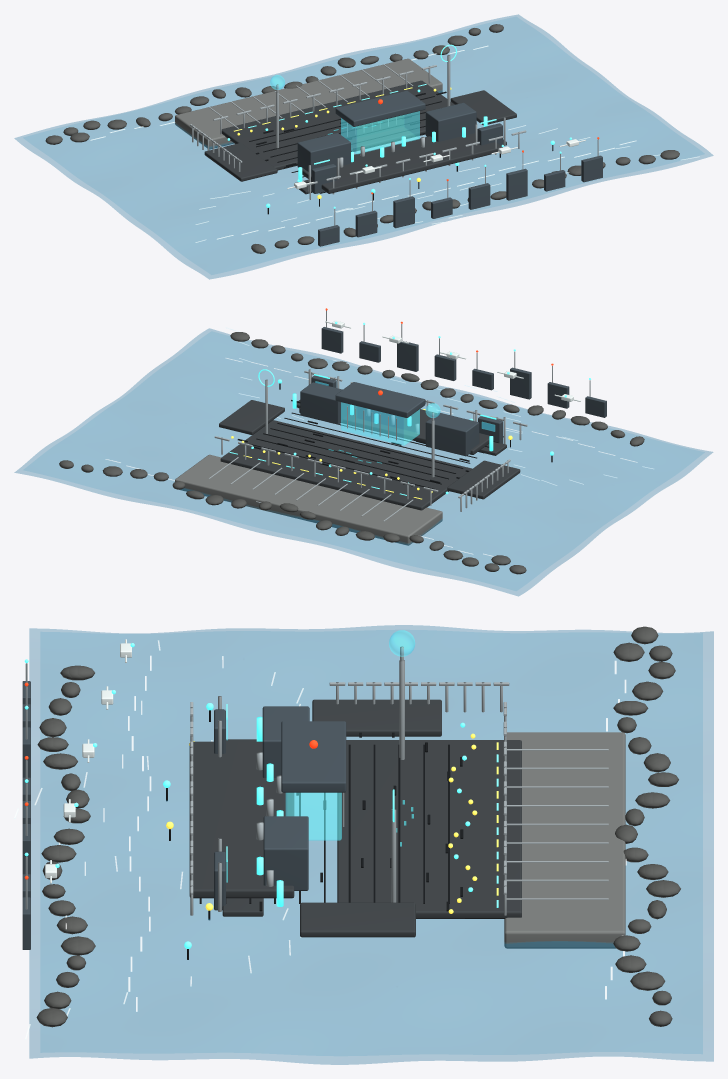
File: ocean-observatory-cinematic-blender.glb
3 views of the same model, one above another, from view 1: azimuth 30°, elevation 25°; view 2: azimuth 150°, elevation 25°; view 3: azimuth 270°, elevation 25° (orthographic). The views are drawn at different scales.
Visible parts, largest first — view 1: A3D ocean procedural base tessellated swell surface, A3D ocean secondary wind chop reference layer, batched salt dark composite deck panels, batched storm blue observatory cladding, foreground angular concrete caisson, batched dark basalt breakwater, batched brushed marine steel rails, batched thick cyan pressure glass, batched black rubber cable bundles, batched cyan instrument emissive, batched wind torn ocean foam cards, batched white patrol drone shells (+1 smaller); view 2: A3D ocean procedural base tessellated swell surface, A3D ocean secondary wind chop reference layer, batched salt dark composite deck panels, batched storm blue observatory cladding, foreground angular concrete caisson, batched dark basalt breakwater, batched brushed marine steel rails, batched thick cyan pressure glass, batched black rubber cable bundles, batched cyan instrument emissive, batched white patrol drone shells, batched low angle ocean fresnel glints; view 3: A3D ocean procedural base tessellated swell surface, A3D ocean secondary wind chop reference layer, batched salt dark composite deck panels, foreground angular concrete caisson, batched dark basalt breakwater, batched storm blue observatory cladding, batched brushed marine steel rails, batched black rubber cable bundles, batched thick cyan pressure glass, batched cyan instrument emissive, batched white patrol drone shells, batched wind torn ocean foam cards.
Part boxes in pixels (bbox=[...]): A3D ocean procedural base tessellated swell surface: bbox=[14, 14, 713, 279]; A3D ocean secondary wind chop reference layer: bbox=[24, 17, 703, 274]; batched salt dark composite deck panels: bbox=[204, 80, 516, 194]; batched storm blue observatory cladding: bbox=[297, 90, 602, 246]; foreground angular concrete caisson: bbox=[175, 58, 442, 149]; batched dark basalt breakwater: bbox=[45, 24, 679, 253]; batched brushed marine steel rails: bbox=[190, 55, 598, 225]; batched thick cyan pressure glass: bbox=[270, 75, 419, 154]; batched black rubber cable bundles: bbox=[249, 91, 553, 214]; batched cyan instrument emissive: bbox=[227, 44, 561, 208]; batched wind torn ocean foam cards: bbox=[90, 45, 636, 239]; batched white patrol drone shells: bbox=[287, 139, 585, 189]; A3D ocean procedural base tessellated swell surface: bbox=[14, 328, 712, 596]; A3D ocean secondary wind chop reference layer: bbox=[24, 332, 704, 590]; batched salt dark composite deck panels: bbox=[219, 400, 520, 510]; batched storm blue observatory cladding: bbox=[300, 327, 606, 456]; foreground angular concrete caisson: bbox=[175, 454, 442, 545]; batched dark basalt breakwater: bbox=[59, 332, 644, 574]; batched brushed marine steel rails: bbox=[208, 310, 590, 521]; batched thick cyan pressure glass: bbox=[315, 381, 495, 445]; batched black rubber cable bundles: bbox=[237, 383, 552, 489]; batched cyan instrument emissive: bbox=[229, 322, 590, 495]; batched white patrol drone shells: bbox=[325, 320, 580, 401]; batched low angle ocean fresnel glints: bbox=[225, 327, 653, 485]; A3D ocean procedural base tessellated swell surface: bbox=[29, 625, 713, 1064]; A3D ocean secondary wind chop reference layer: bbox=[41, 630, 702, 1055]; batched salt dark composite deck panels: bbox=[189, 699, 521, 937]; foreground angular concrete caisson: bbox=[504, 732, 625, 948]; batched dark basalt breakwater: bbox=[36, 626, 680, 1027]; batched storm blue observatory cladding: bbox=[22, 681, 346, 949]; batched brushed marine steel rails: bbox=[25, 646, 608, 915]; batched black rubber cable bundles: bbox=[166, 710, 463, 959]; batched thick cyan pressure glass: bbox=[226, 630, 415, 882]; batched cyan instrument emissive: bbox=[24, 659, 498, 948]; batched white patrol drone shells: bbox=[45, 639, 131, 883]; batched wind torn ocean foam cards: bbox=[128, 655, 626, 1011].
Size of the model in its own units: 18.5 by 3.03 by 12.68.
